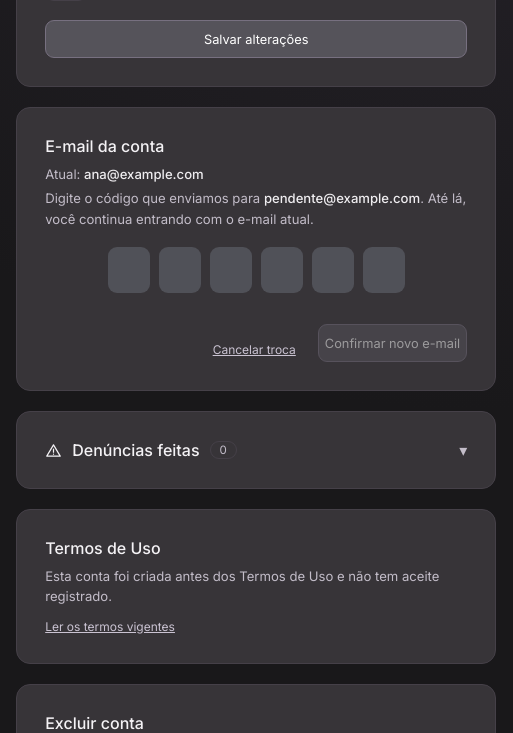
Test: trocar o e-mail da conta (RF-04) › uma troca pendente reabre na etapa do código e pode ser cancelada
(page scrolled)
Expected: the text "pendente@example.com" is shown, x1=264 y1=190 x2=420 y2=206
Click the button "Cancelar troca".
click(254, 350)  # box x1=207 y1=341 x2=302 y2=358
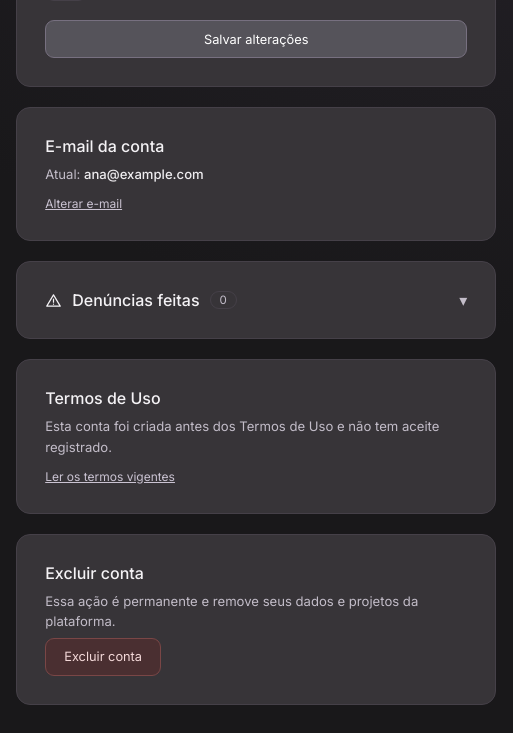
Result: the button "Alterar e-mail" is shown at x1=45 y1=196 x2=122 y2=211
